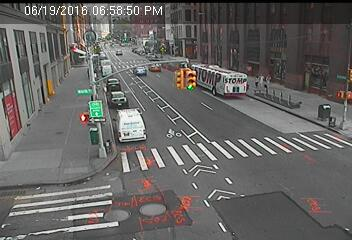neg: (276, 62, 288, 77), (68, 50, 79, 65), (230, 56, 239, 68)
pos: (252, 73, 264, 88), (258, 78, 270, 93), (264, 73, 273, 85)
